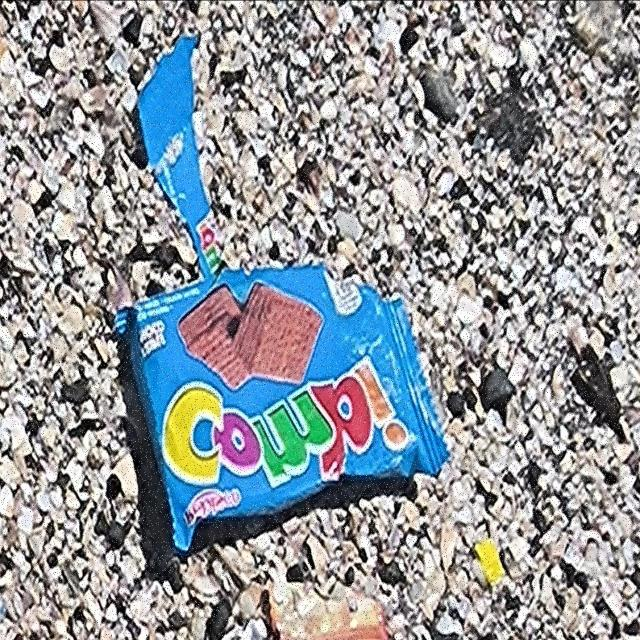plastic_waste: (114, 266, 449, 549)
